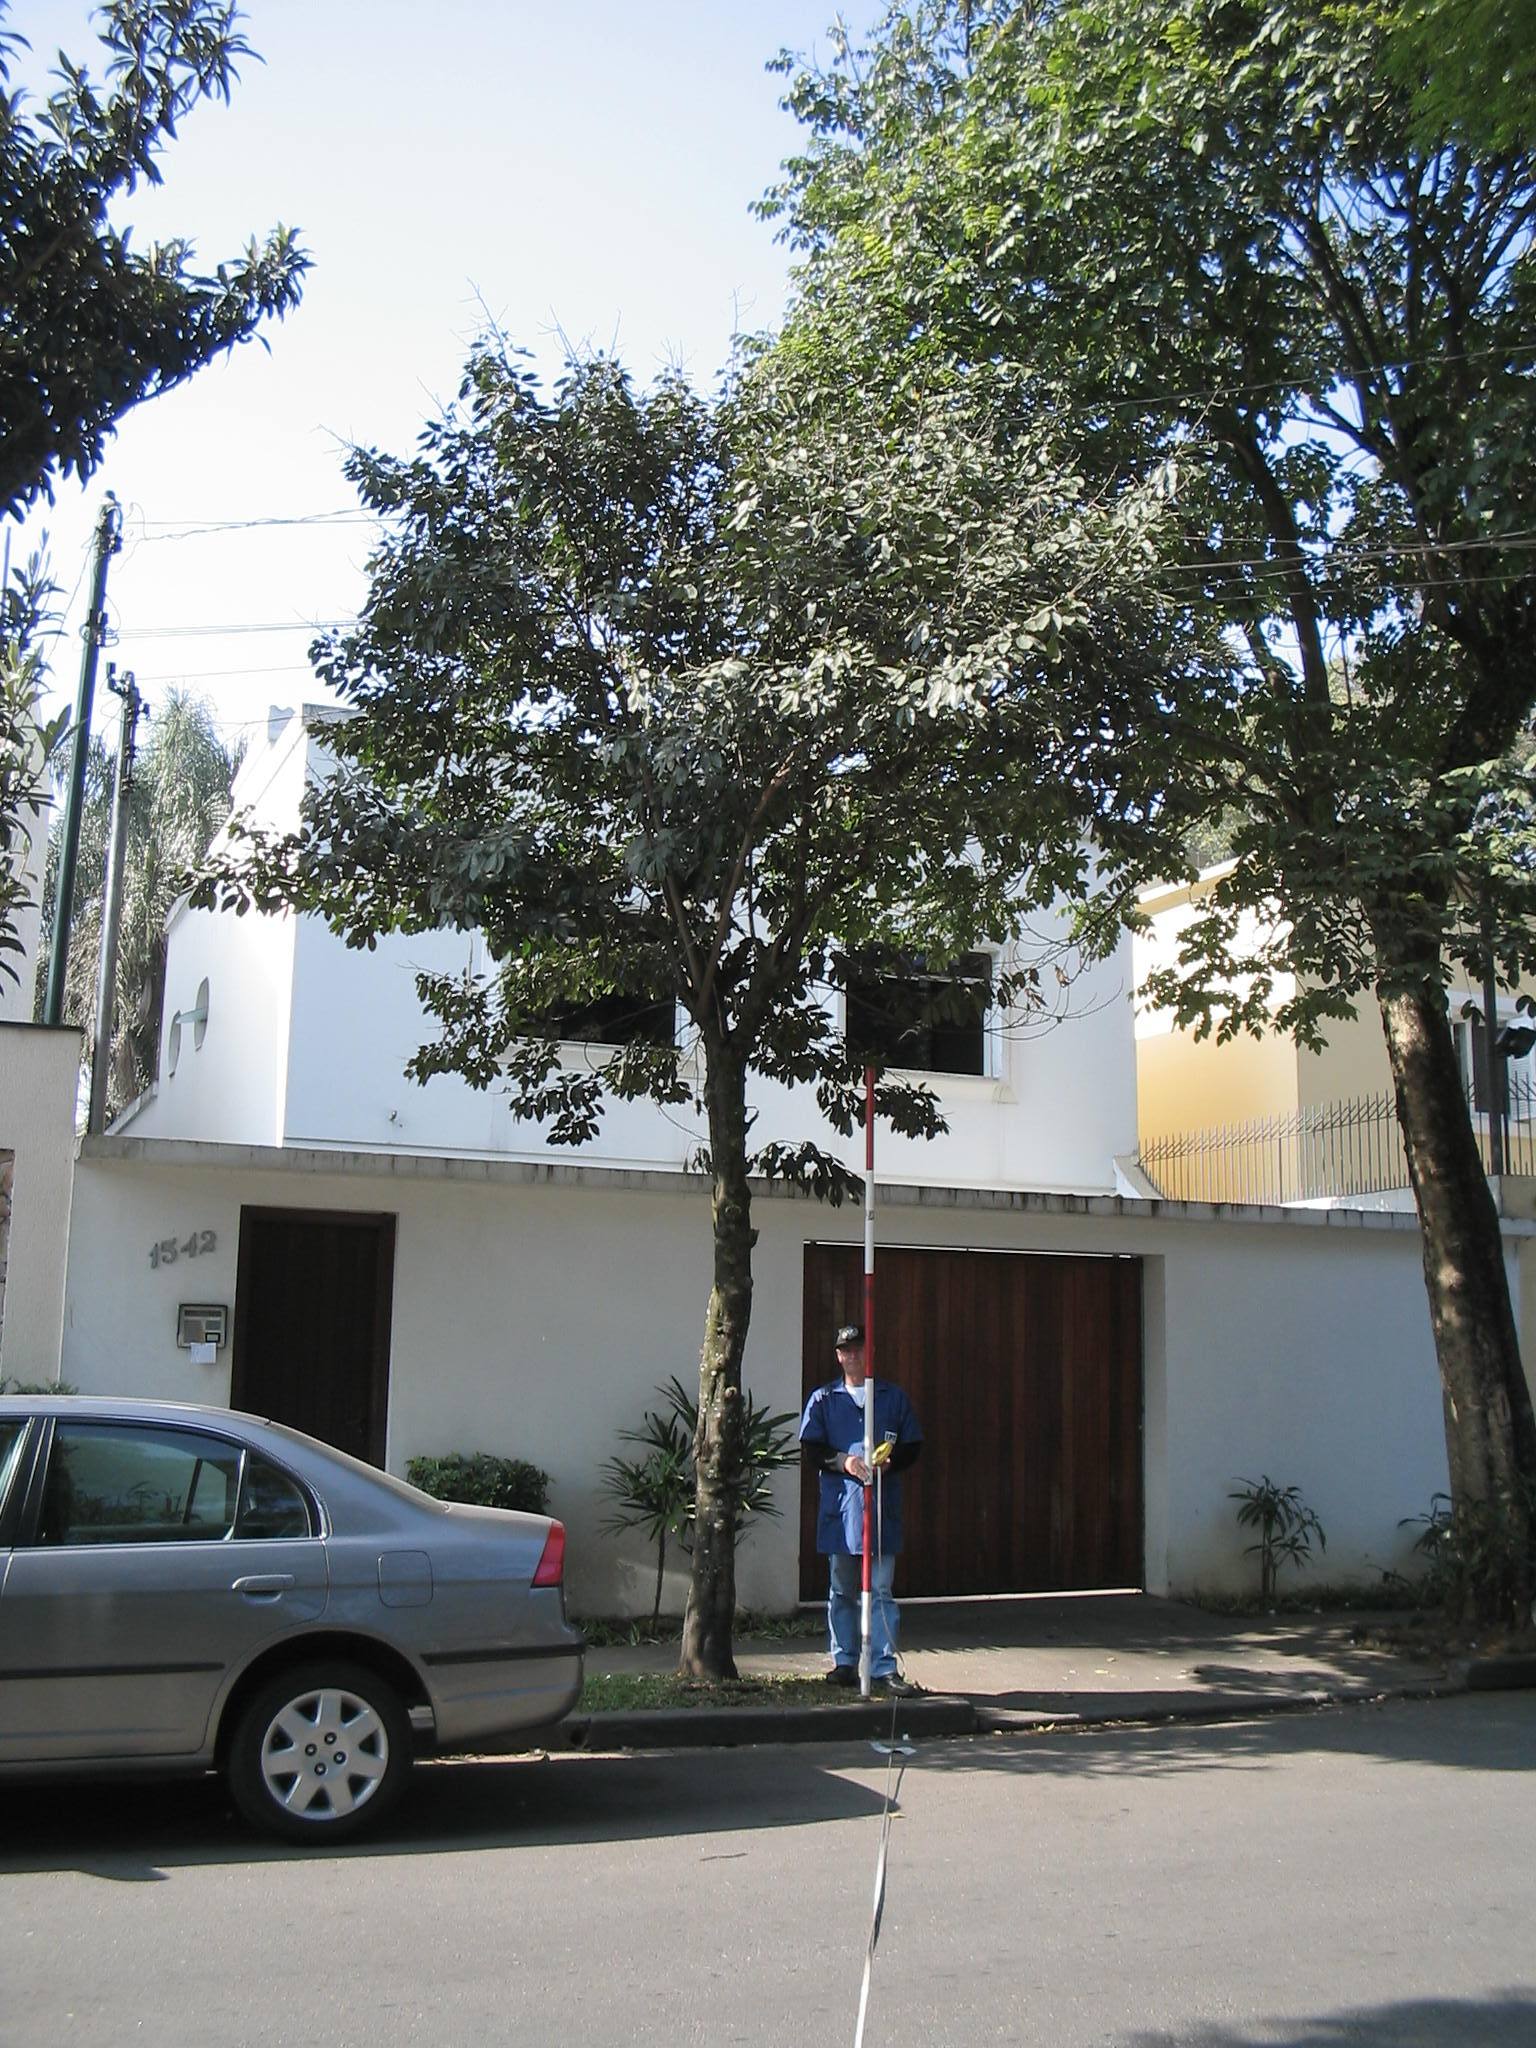crown: (215, 313, 1258, 1158), (778, 34, 1528, 1116)
stick: (807, 1068, 928, 1696)
tree: (203, 305, 1265, 1690), (765, 26, 1536, 1651)
